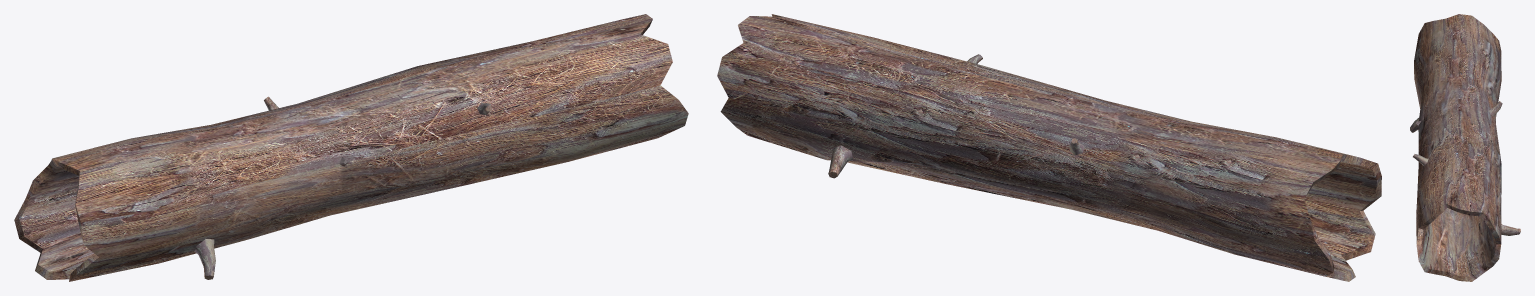
The model's file is old_trunk.obj.
3 renders of one model, left to right at view 1: azimuth 30°, elevation 25°; view 2: azimuth 150°, elevation 25°; view 3: azimuth 270°, elevation 25°, orthographic. The views are drawn at different scales.
Parts seen in each view (by area): view 1: Old_Trunk_01; view 2: Old_Trunk_01; view 3: Old_Trunk_01.
Part boxes in pixels (<box>): Old_Trunk_01: <box>14,14,688,281</box>; Old_Trunk_01: <box>717,14,1381,281</box>; Old_Trunk_01: <box>1410,14,1520,281</box>.
Bounding box in the file's own units: 4.03 × 0.7596 × 0.9291.
Materials: 1 (1 with a texture image).
